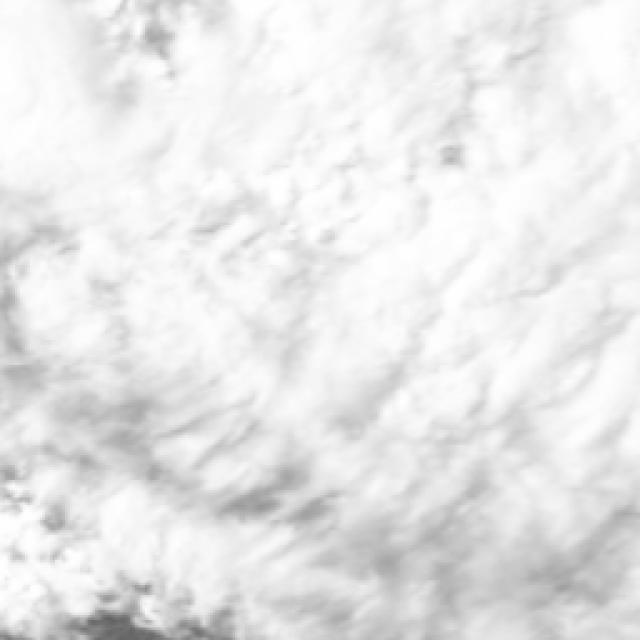CB: (150, 165, 590, 382), (266, 55, 638, 309), (1, 5, 100, 200)
